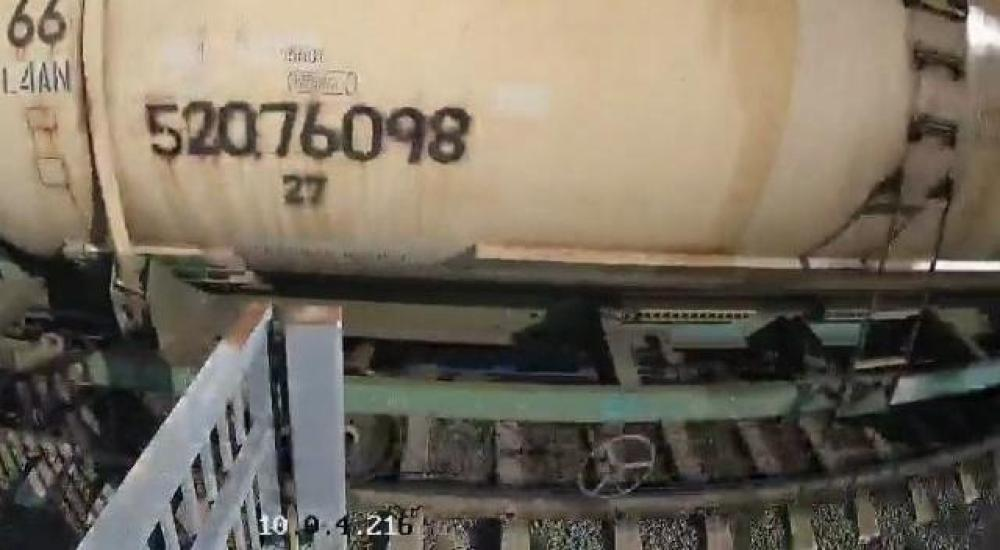Wagon-number: (139, 94, 473, 169)
